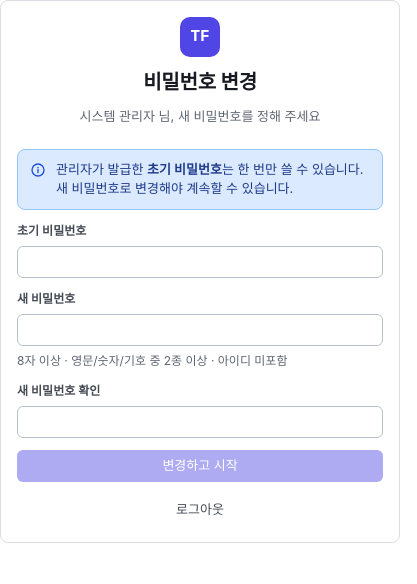
Scenario: MePage — 강제 변경 모드(/me?forcePassword=1) › 서버 422(현재 비밀번호 불일치)를 해당 칸 오류로
In the password field labelled "초기 비밀번호": (200, 262) [17,246,383,278], type "wrong"
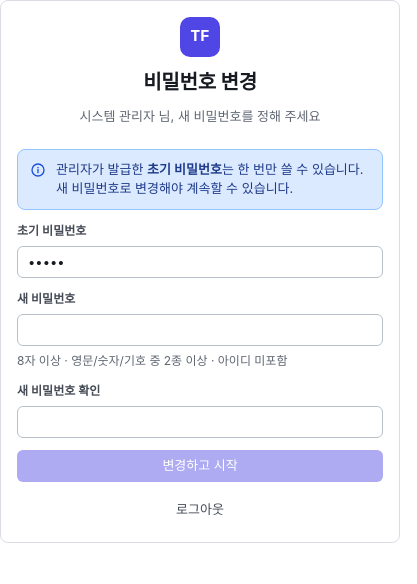
In the password field labelled "새 비밀번호": (200, 330) [17,314,383,346], type "Fresh#2026ok"
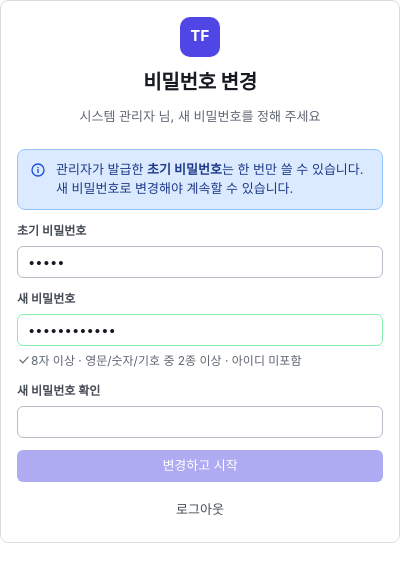
In the password field labelled "새 비밀번호 확인": (200, 422) [17,406,383,438], type "Fresh#2026ok"
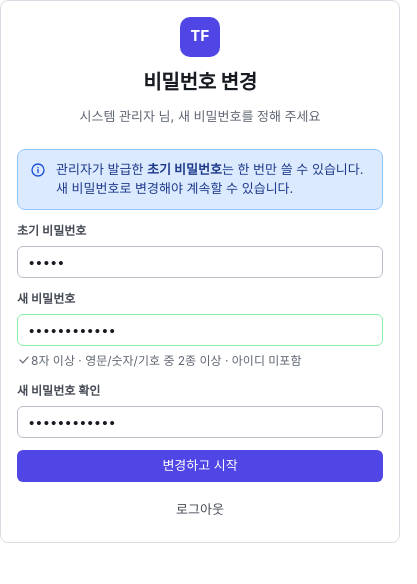
Submit the form, box [17,148,383,526]
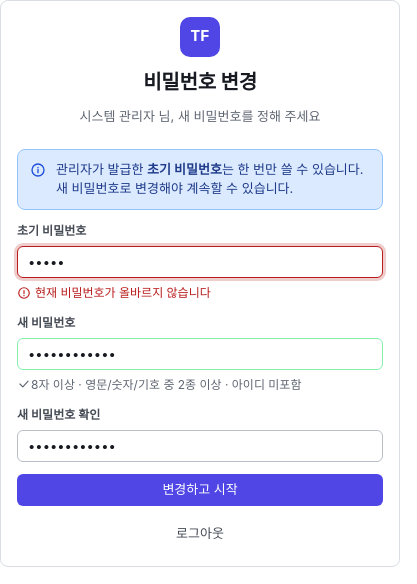
Expected: the text "현재 비밀번호가 올바르지 않습니다" is shown, [17,284,211,300]
